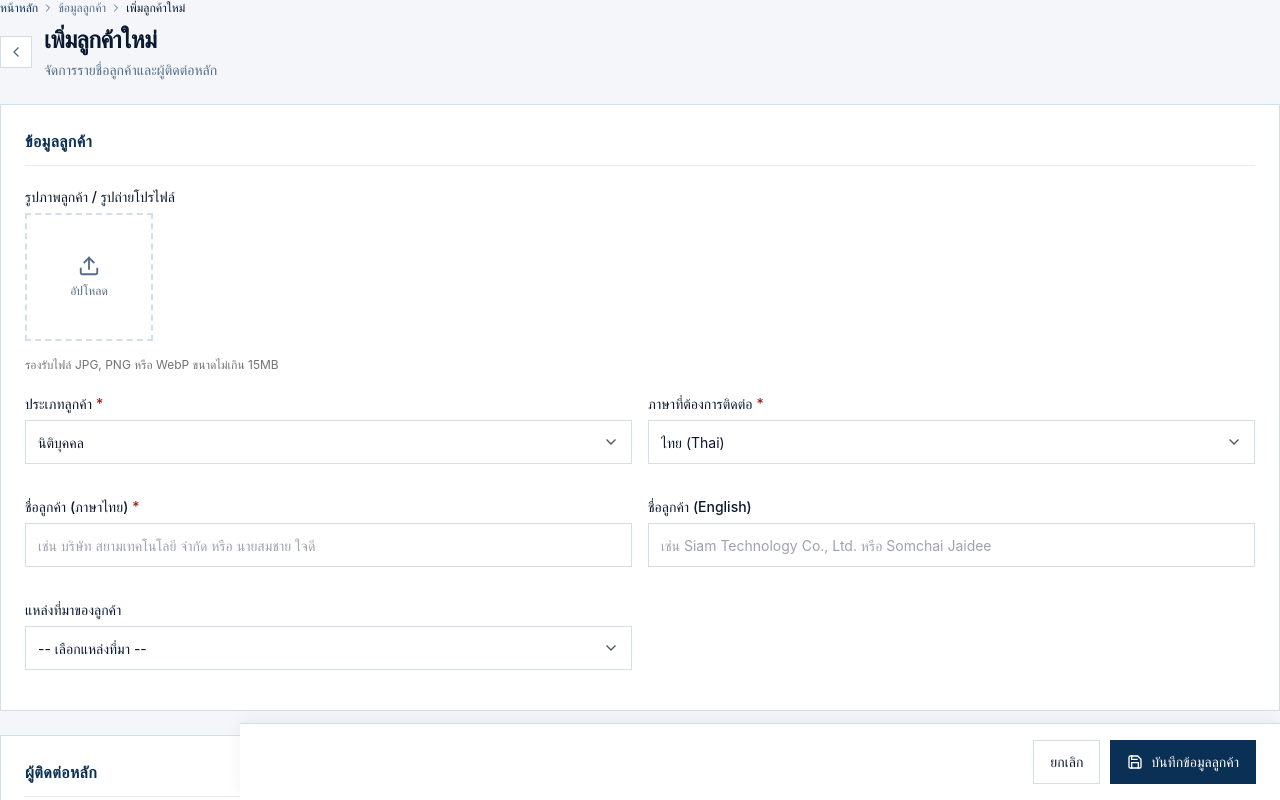
Test case: CustomerEditor create intent › preserves masked duplicate candidate with link instead of navigating
The width and height of the screenshot is (1280, 800).
Step 1. Type "บริษัท ตัวอย่าง จำกัด" into the field with id "displayNameTh" → (328, 545), box [25,523,632,567]
(page scrolled)
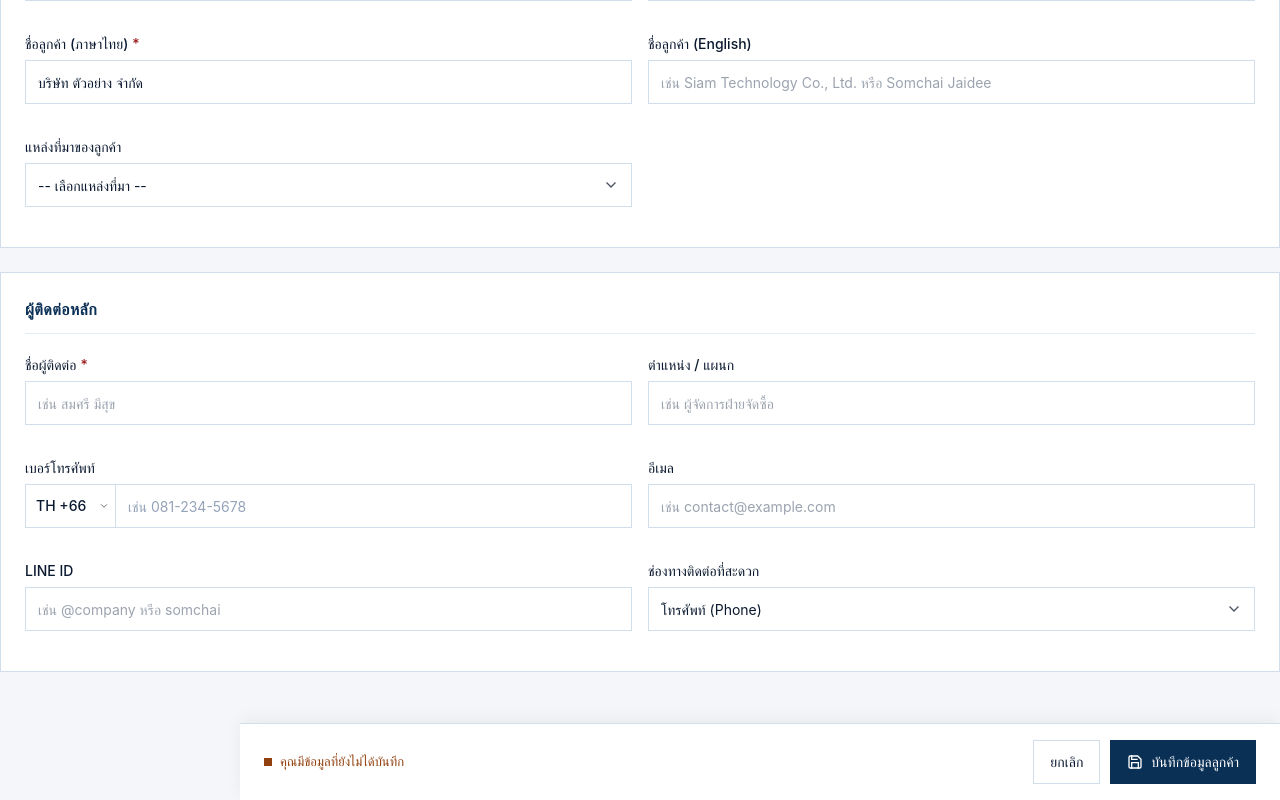
Step 2. Type "คุณตัวอย่าง" into the field labelled "ชื่อผู้ติดต่อ *" → (328, 403), box [25,381,632,425]
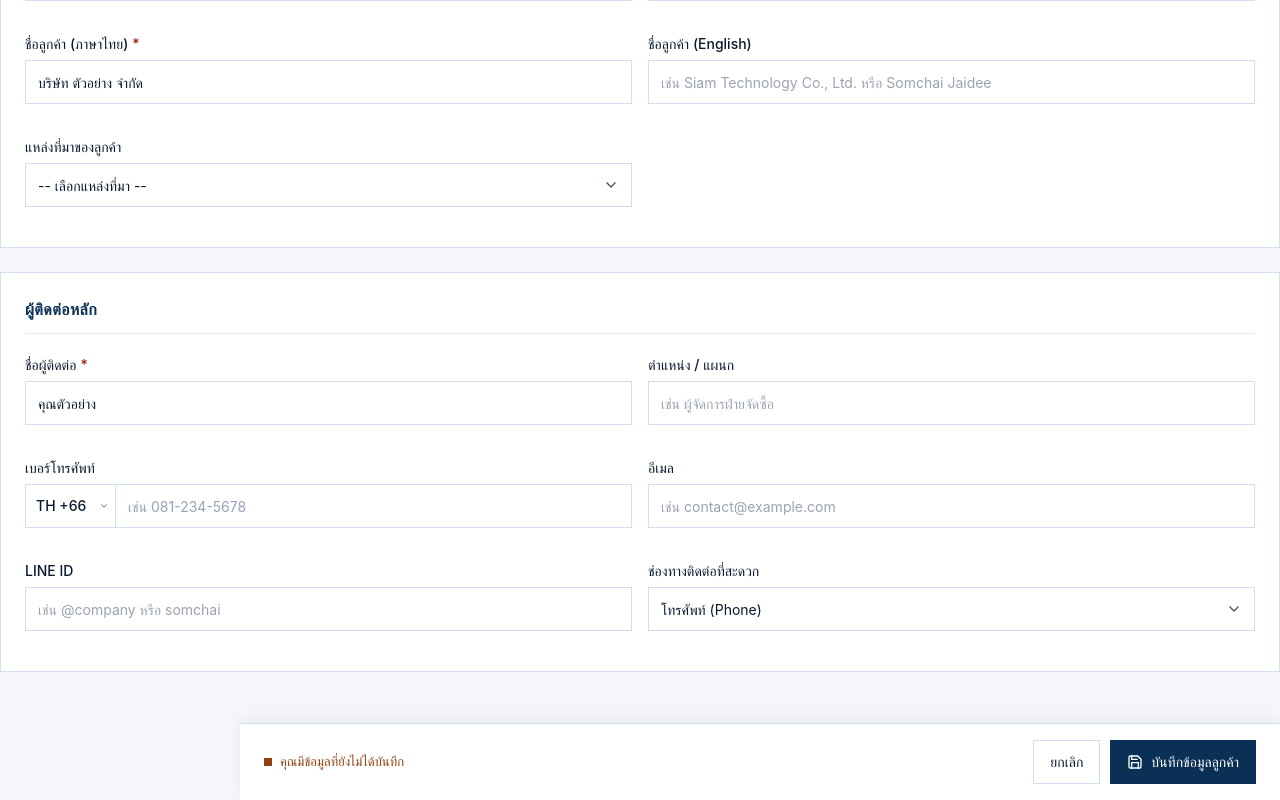
Step 3. Type "0812345678" into the field labelled "เบอร์โทรศัพท์" → (374, 506), box [116,485,631,527]
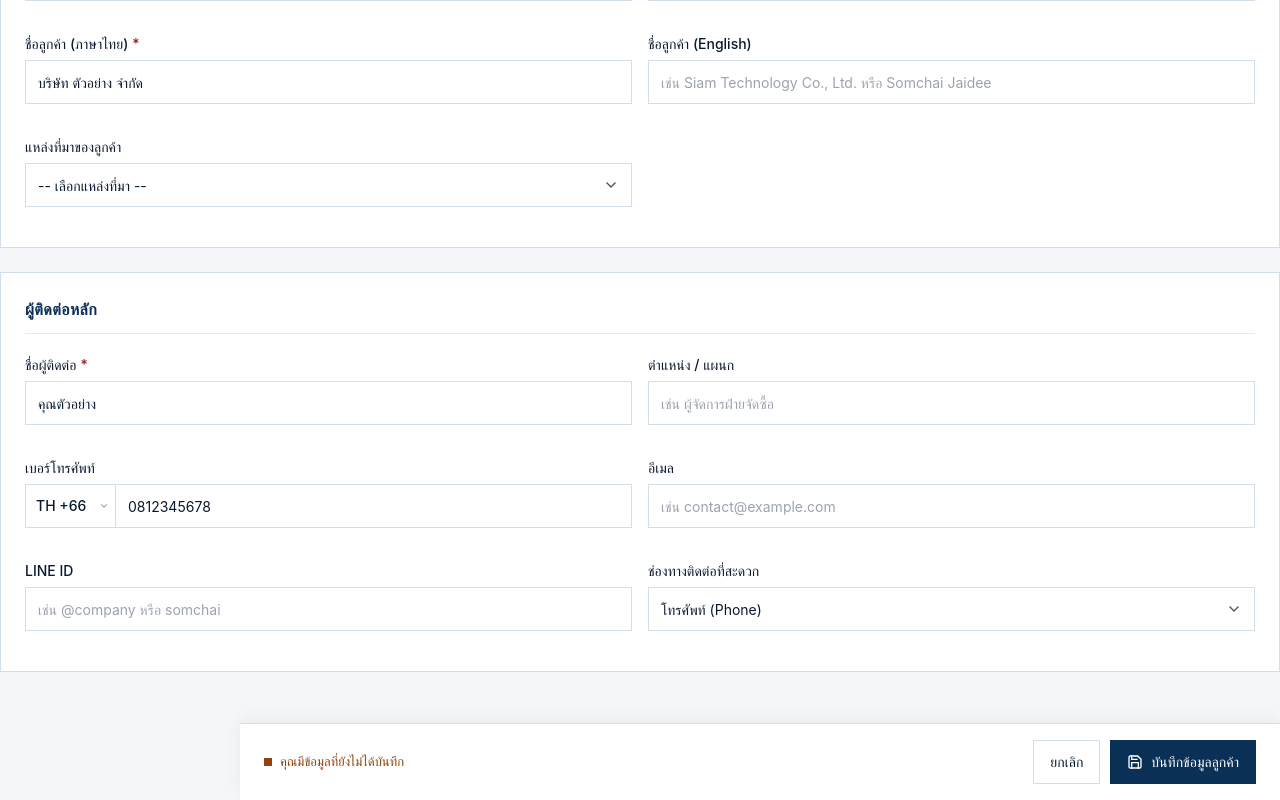
Step 4. Click the button "บันทึกข้อมูลลูกค้า" → (1183, 762), box [1110,740,1256,784]
(page scrolled)
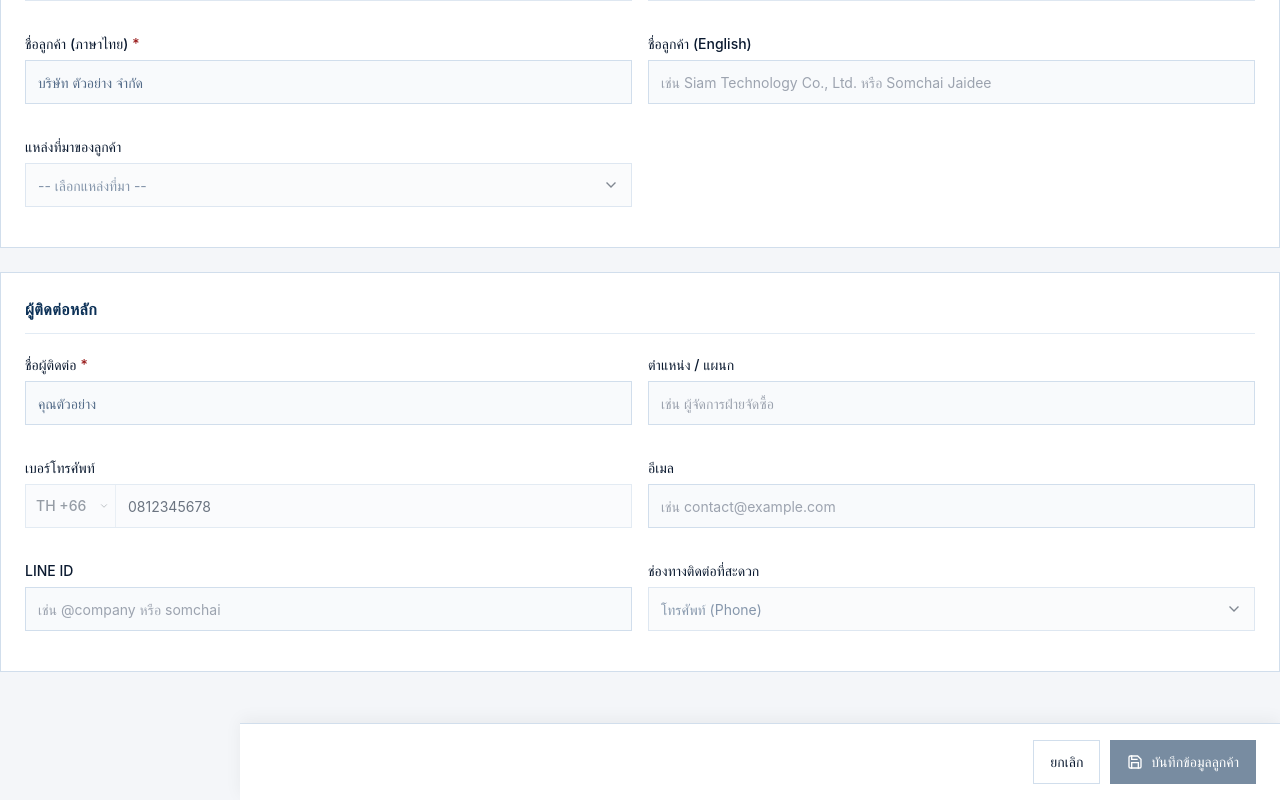
Expected: the button "บันทึกข้อมูลลูกค้า" is disabled, [1110,740,1256,784]
Expected: the field with id "displayNameTh" is disabled, [25,60,632,104]
